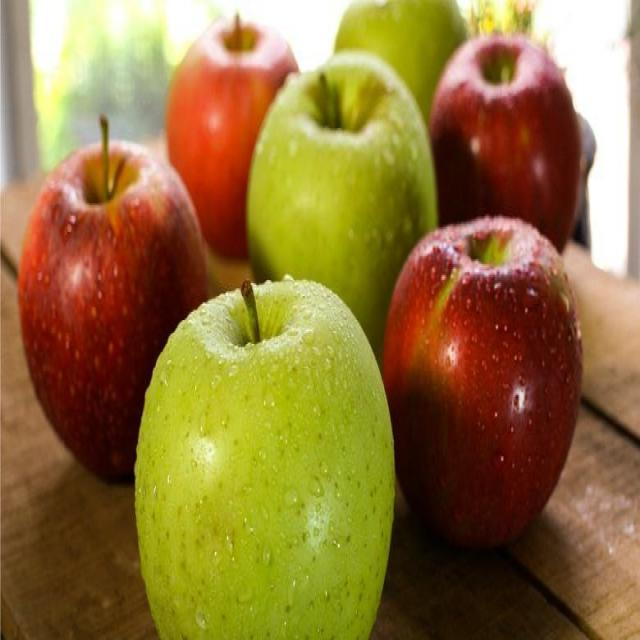fresh_apple: (135, 280, 394, 640), (386, 208, 584, 541), (18, 134, 208, 470)
